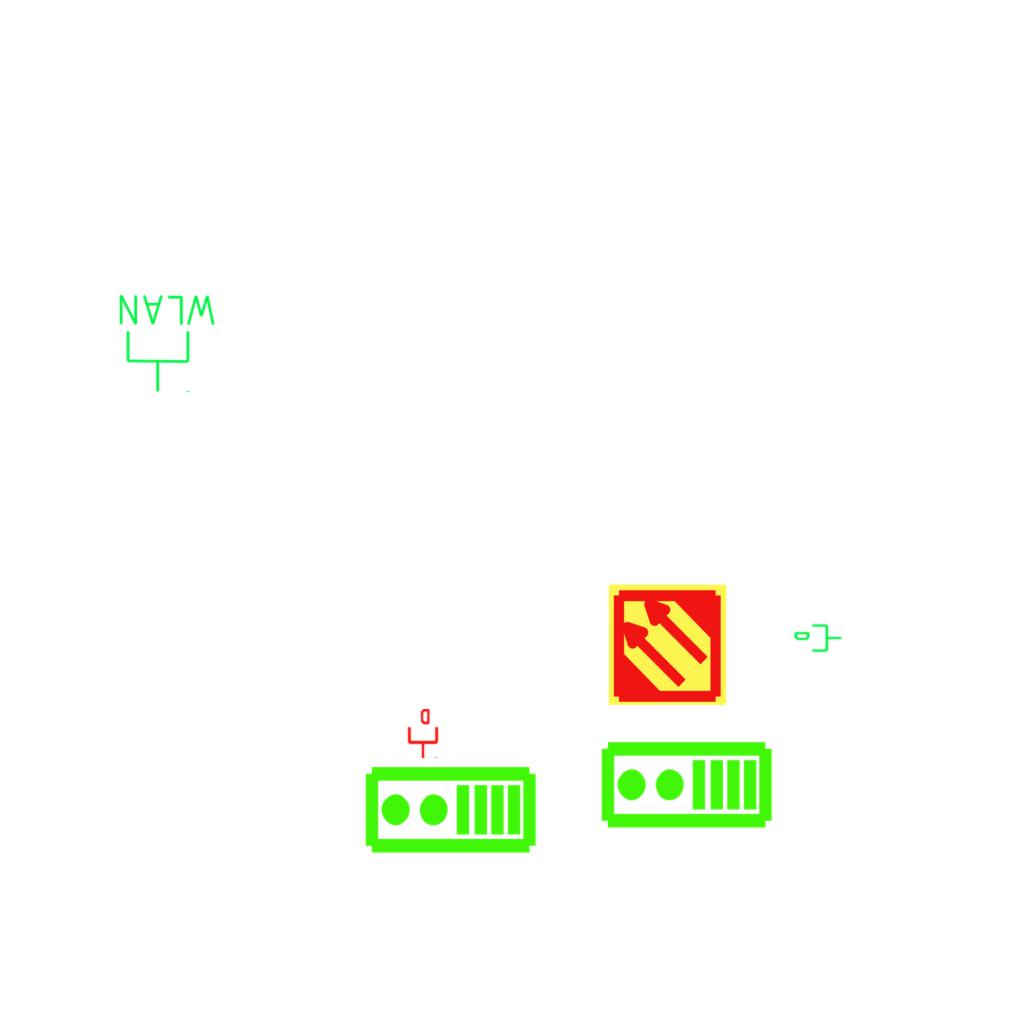ASR_Ansaugrauchmelder: (605, 582, 730, 707)
Datenanschluss_einfach: (406, 709, 440, 759), (793, 622, 843, 656)
Gegensprechanlage_mit_Video: (362, 764, 538, 859), (598, 739, 774, 834)
WLAN: (115, 291, 220, 395)
